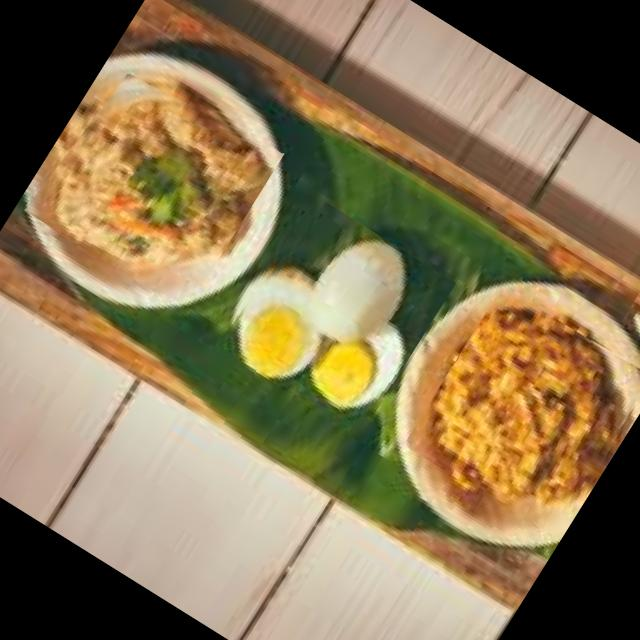Organic: (22, 49, 284, 310), (204, 190, 455, 450), (402, 282, 640, 541)
